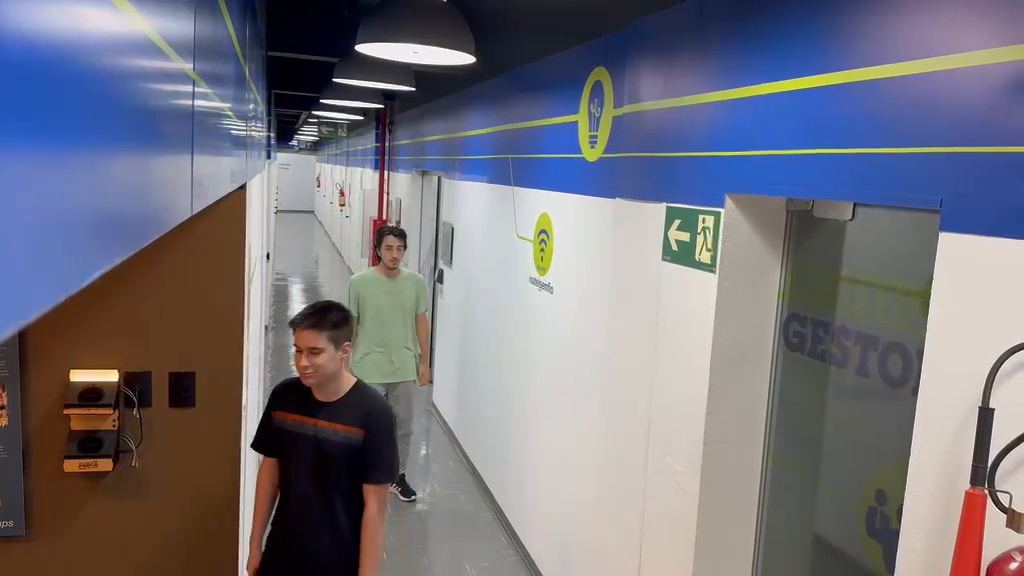person: (247, 300, 409, 573), (348, 220, 431, 502)
